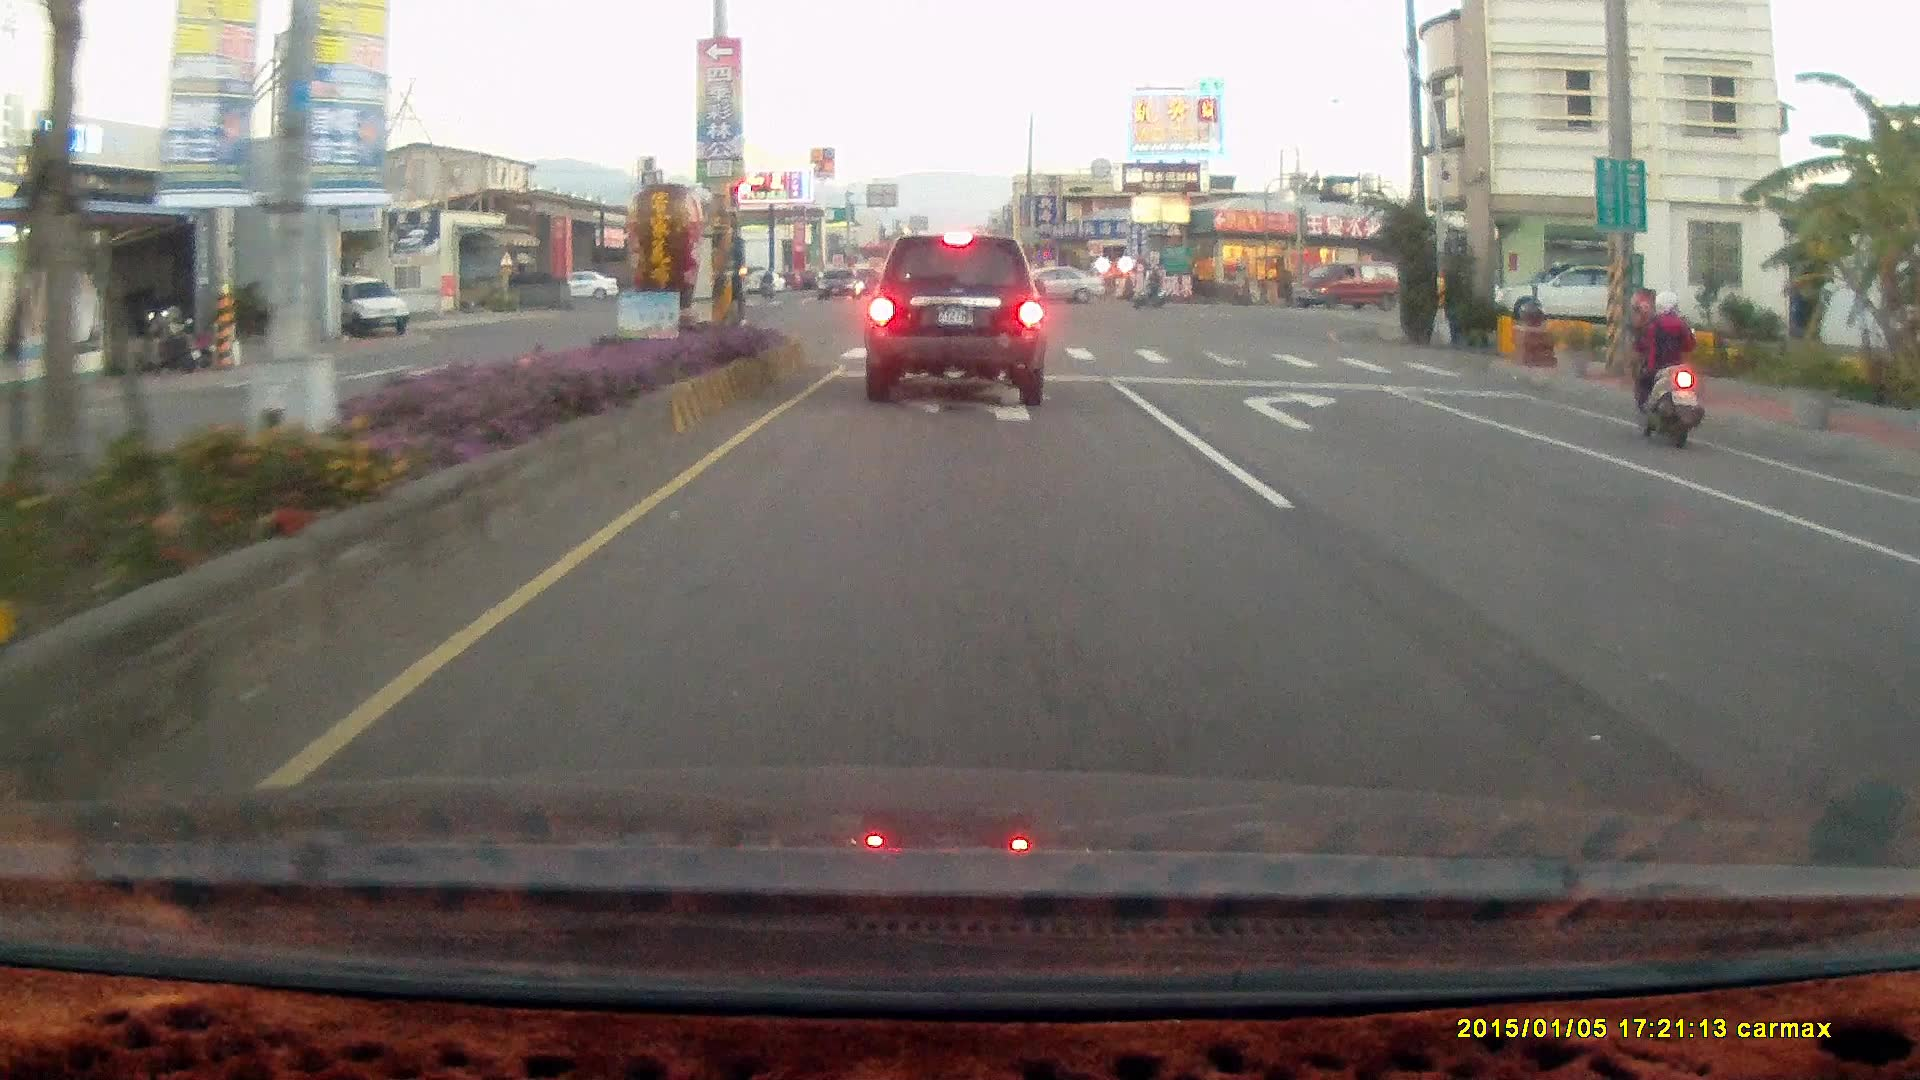rider: (1628, 288, 1704, 452), (1130, 270, 1166, 312)
vehicle: (862, 232, 1047, 406), (1493, 261, 1648, 328), (1896, 493, 1920, 836), (1493, 265, 1618, 330), (1883, 528, 1920, 690), (328, 277, 413, 341), (1291, 262, 1400, 311), (995, 266, 1106, 310), (996, 265, 1104, 307), (1295, 268, 1391, 314)
